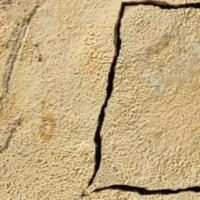crack: (74, 1, 199, 199)
